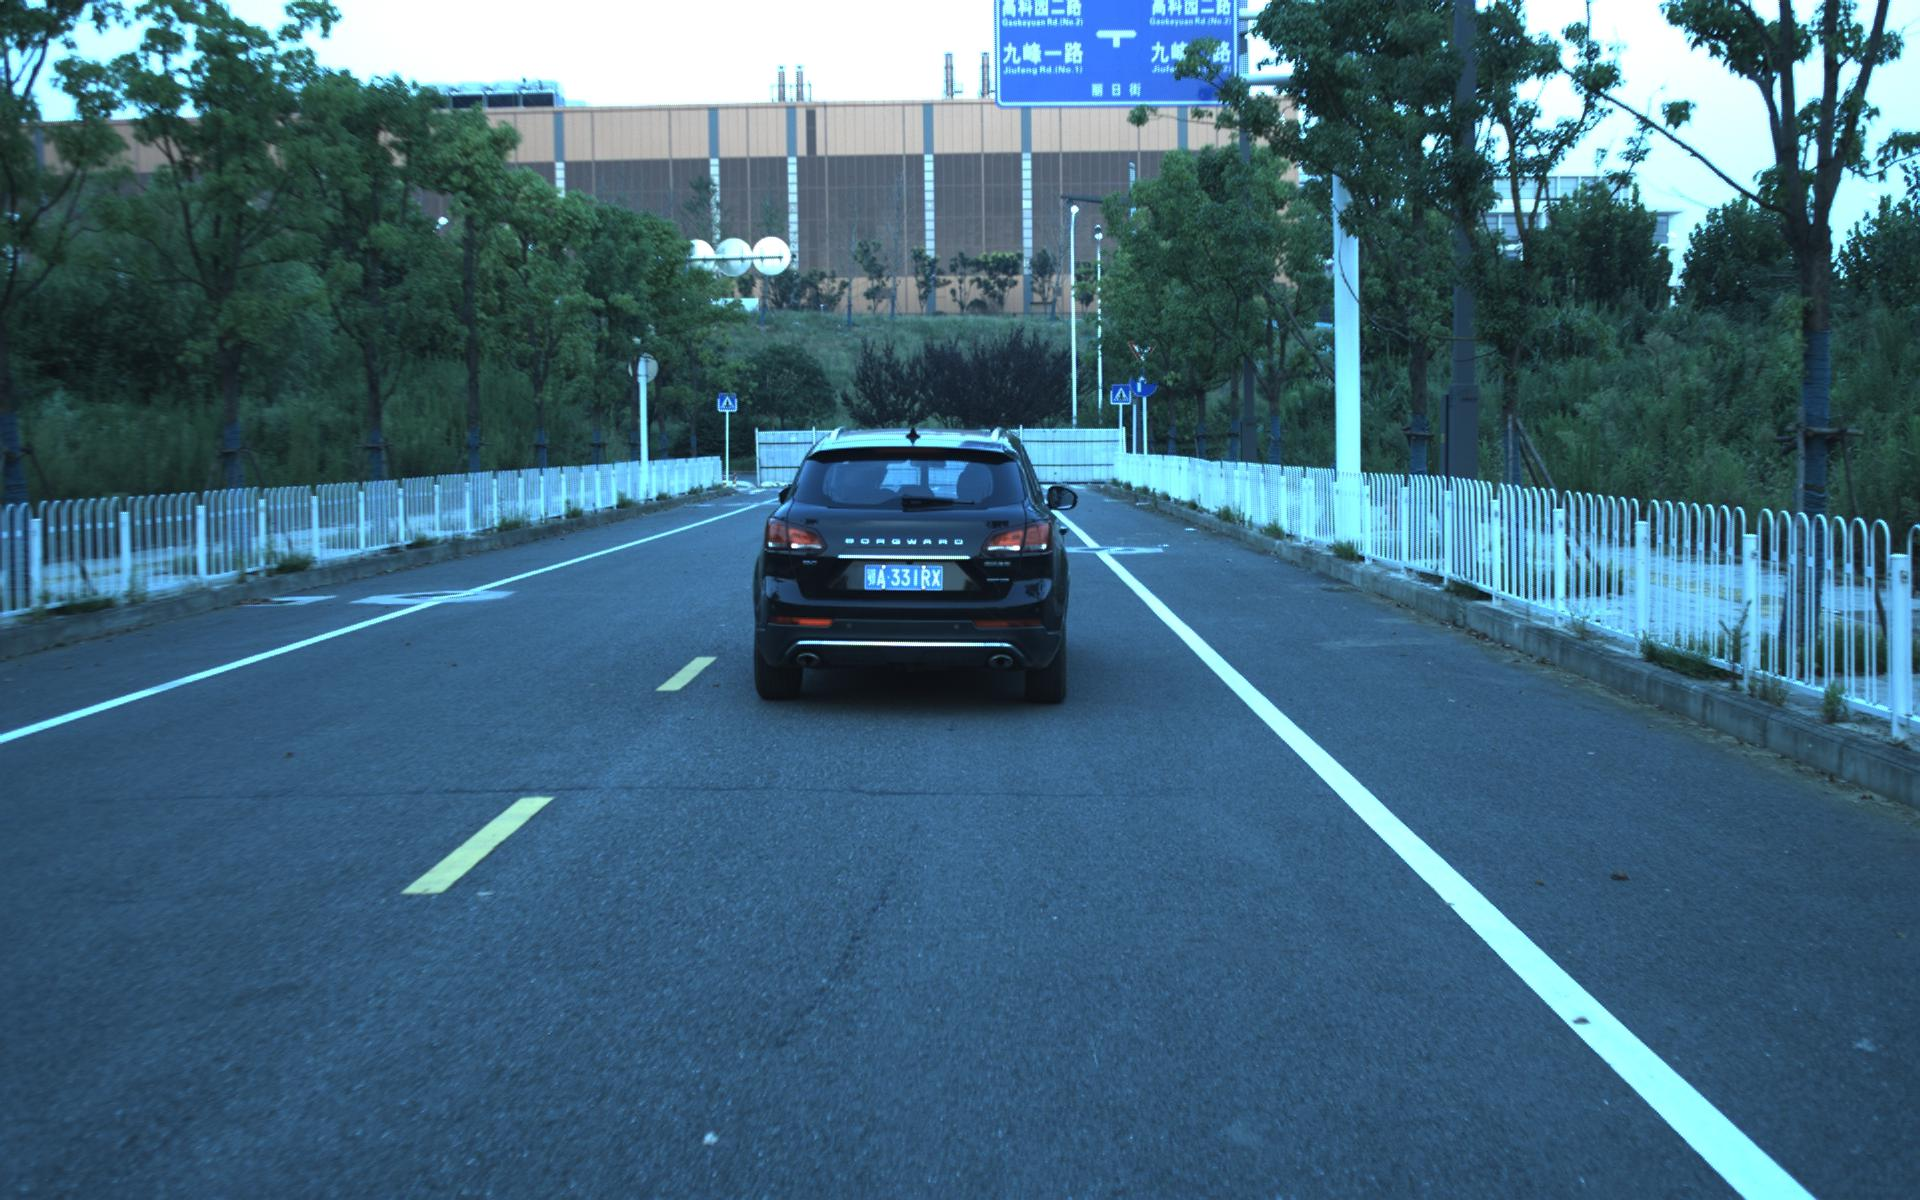Car: (746, 420, 1069, 708)
